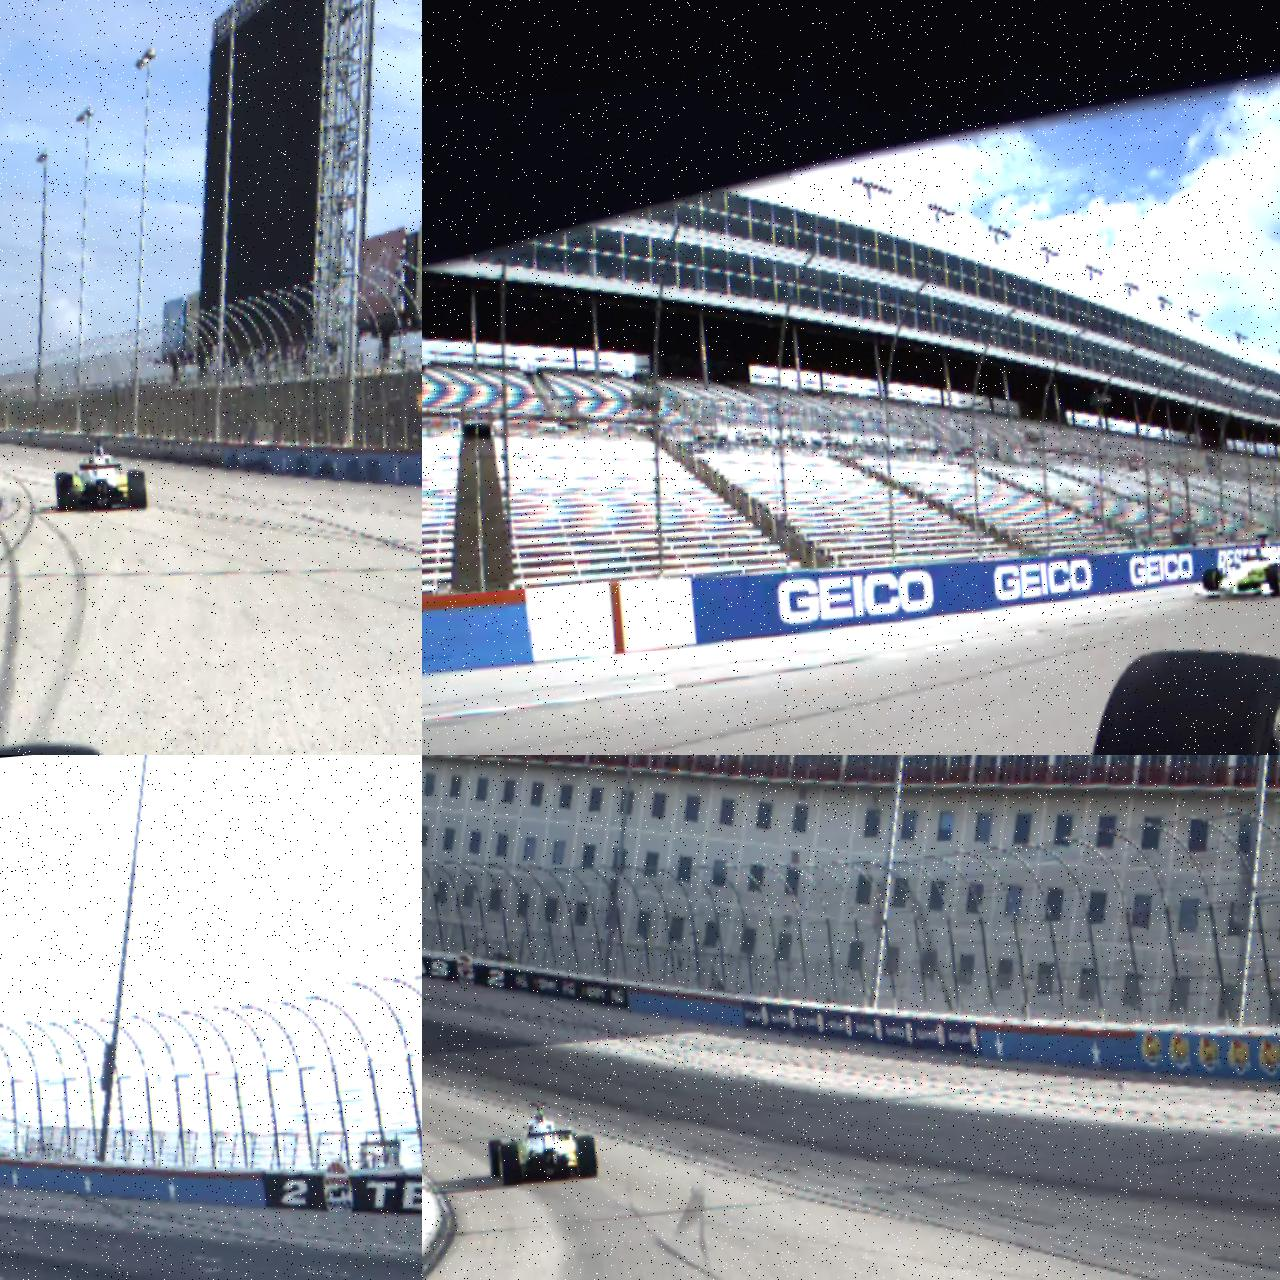AV: (484, 1097, 600, 1187), (52, 429, 149, 517), (1187, 529, 1280, 605)
Wheel: (1067, 636, 1280, 755), (497, 1143, 523, 1186), (577, 1133, 599, 1179), (127, 469, 149, 511), (55, 472, 76, 512), (486, 1138, 505, 1179), (1201, 568, 1223, 599), (1267, 561, 1280, 597)
